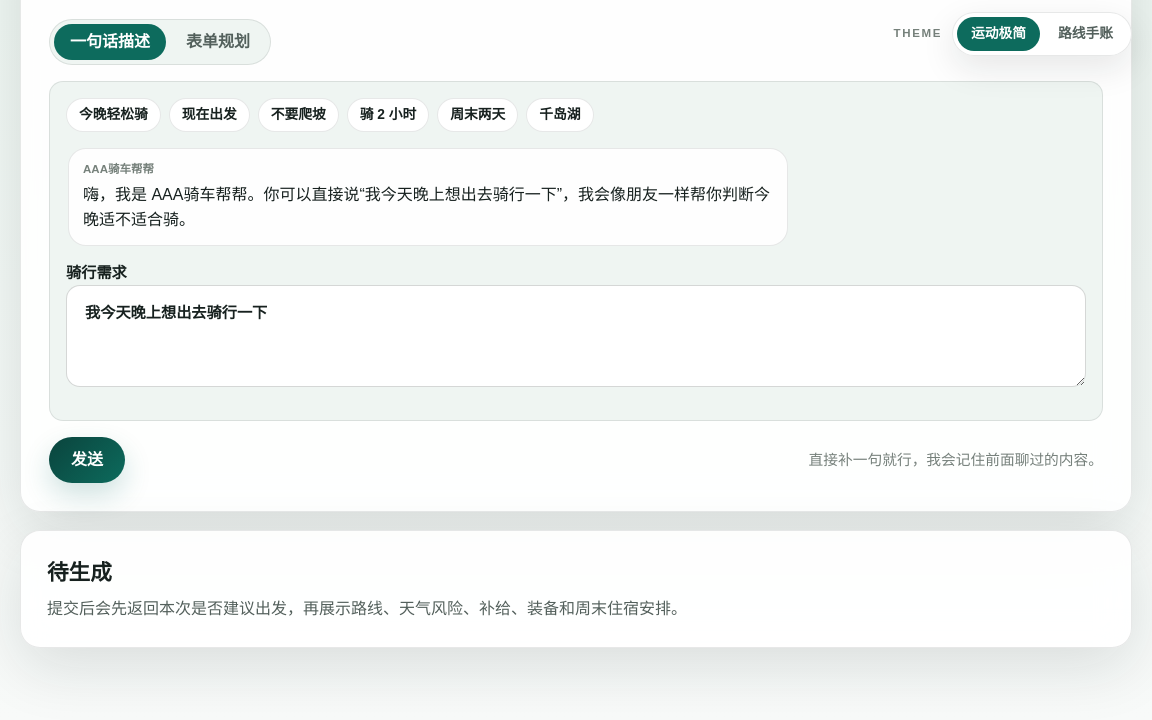
shows staged planner feedback while stream is active
(page scrolled)
Click the button "发送": click(87, 460) left=49, top=437, right=125, bottom=483
(page scrolled)
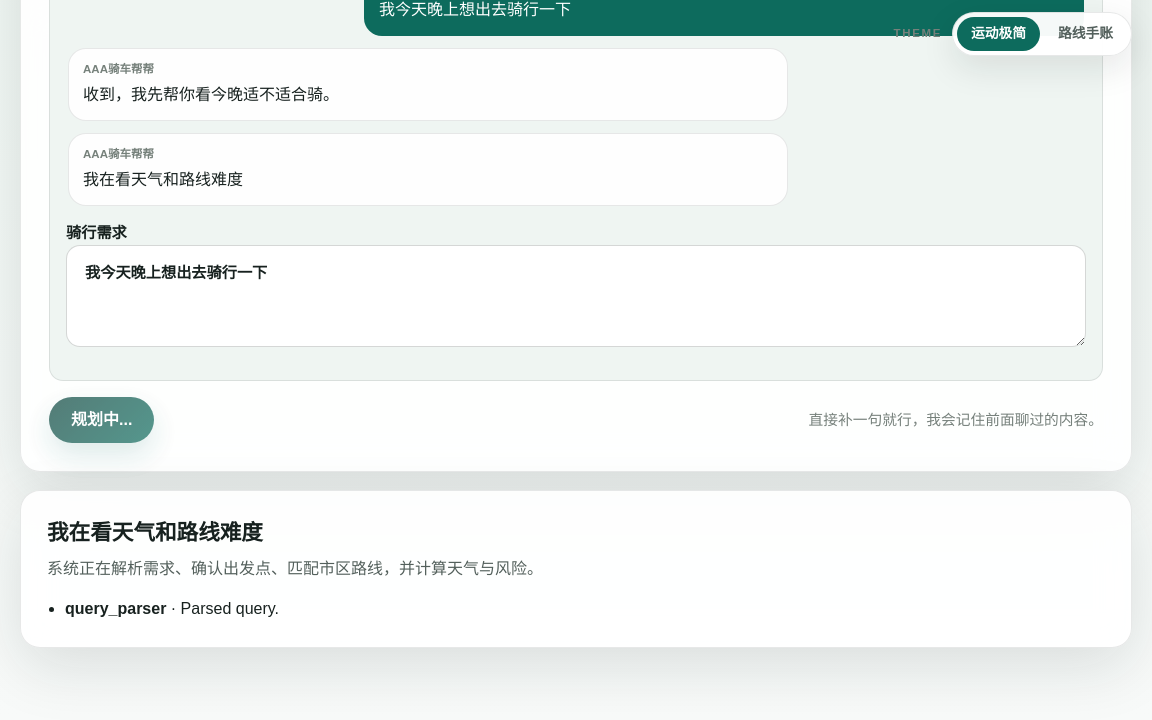
Now the list item shows "Parsed query.", box left=181, top=600, right=279, bottom=617
